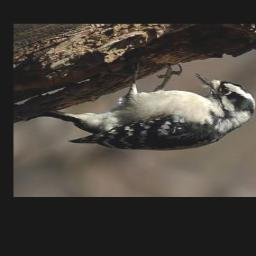Woodpecker: (37, 63, 255, 150)
